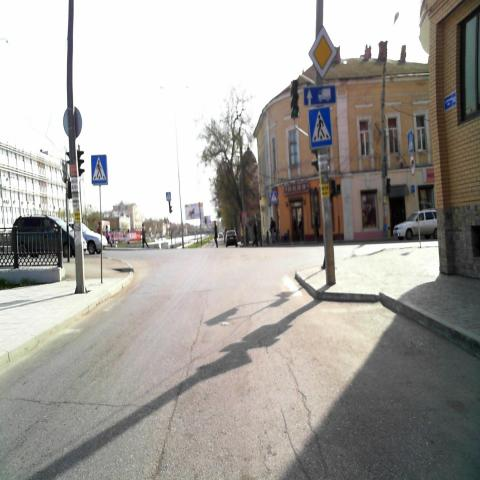2_1: (309, 28, 338, 79)
3_4_1: (410, 154, 416, 173)
5_19_1: (309, 109, 332, 147), (92, 154, 108, 186), (406, 128, 416, 154), (270, 190, 278, 204), (166, 192, 172, 202)
6_15_1: (304, 84, 336, 104)
